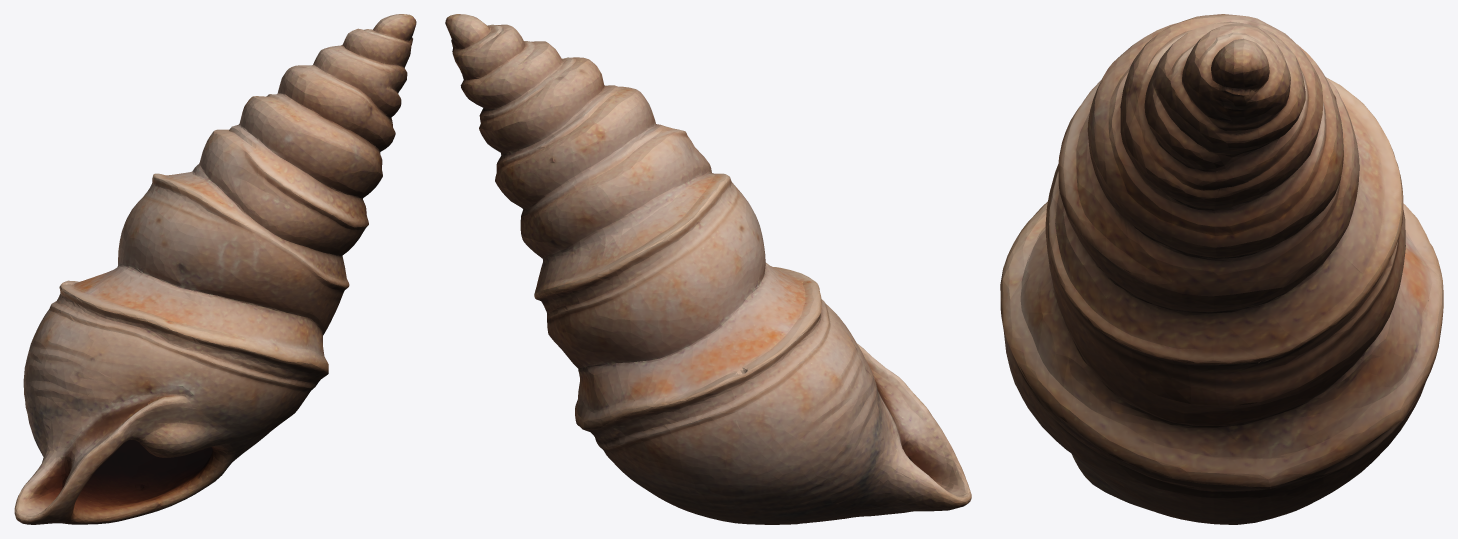
3 renders of one model, left to right at view 1: azimuth 30°, elevation 25°; view 2: azimuth 150°, elevation 25°; view 3: azimuth 270°, elevation 25°, orthographic. The views are drawn at different scales.
Visible parts, largest first — view 1: world; view 2: world; view 3: world.
Part boxes in pixels (x1=…): world: x1=14, y1=14, x2=416, y2=524; world: x1=445, y1=14, x2=971, y2=524; world: x1=1000, y1=14, x2=1443, y2=524.
Size of the model in its own units: 0.9832 by 0.8654 by 0.5229.
1 material, 1 textured.
